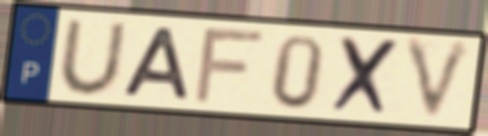0: (268, 33, 327, 111)
A: (119, 24, 193, 102)
F: (190, 27, 269, 106)
U: (56, 18, 130, 98)
V: (401, 35, 478, 127)
X: (329, 33, 405, 119)
